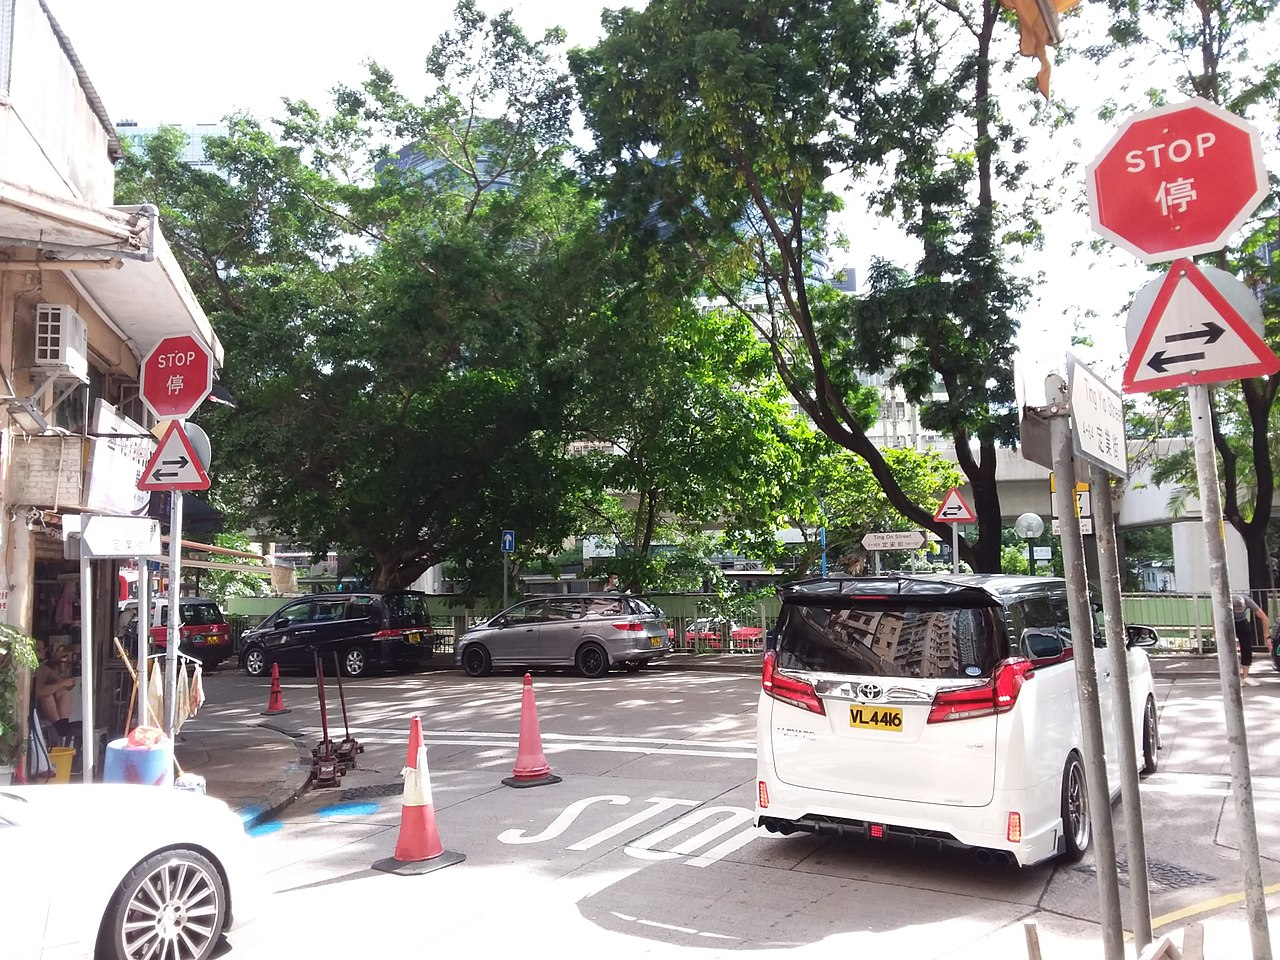Stop: (1082, 107, 1270, 255), (142, 333, 210, 413)
Two way: (1124, 258, 1280, 397), (135, 419, 214, 490)
